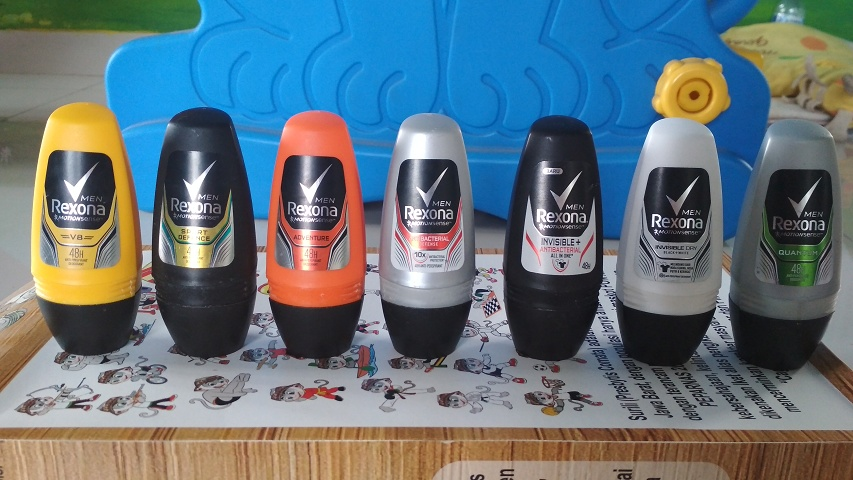rexona: (727, 117, 841, 369), (29, 103, 142, 352), (150, 103, 257, 356), (734, 117, 841, 369), (616, 117, 723, 367), (616, 117, 722, 367), (154, 103, 257, 356), (500, 110, 603, 360), (265, 103, 365, 356), (622, 117, 723, 367), (378, 109, 476, 359), (272, 103, 365, 356)
